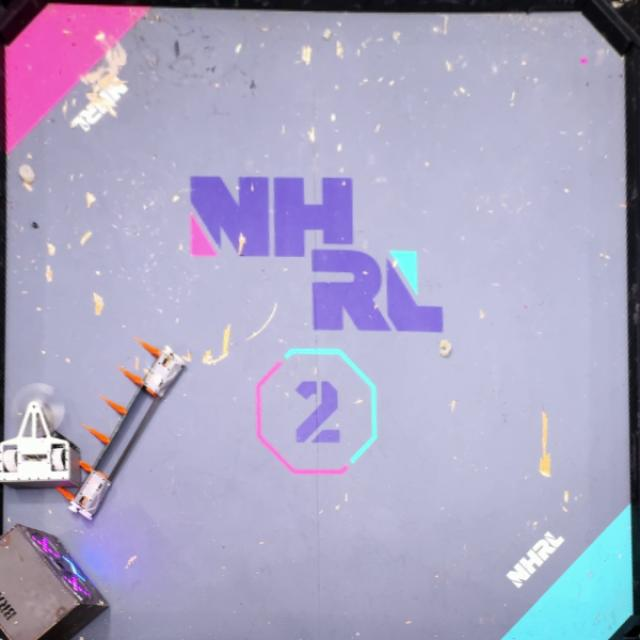housebot: (0, 522, 110, 640)
robot: (52, 338, 190, 524), (0, 381, 82, 490)
